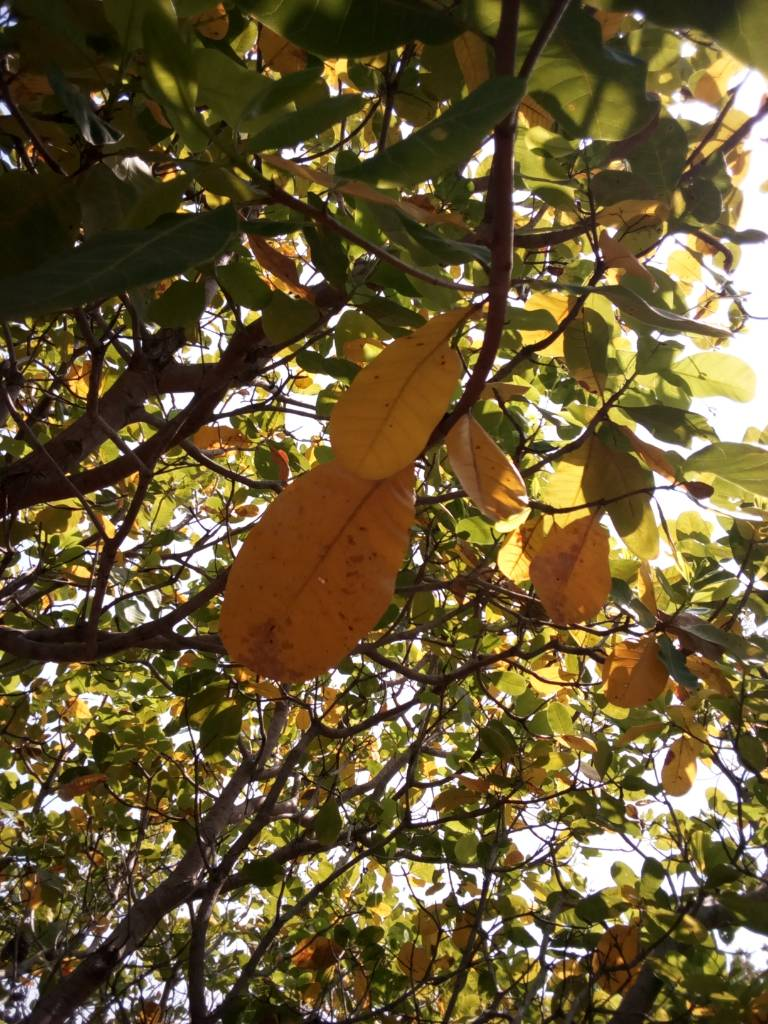Alternariose: (216, 455, 416, 685), (324, 302, 472, 489), (529, 521, 611, 630)
